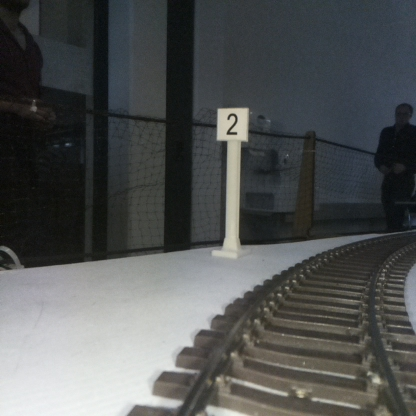white-info-2: (216, 107, 248, 255)
